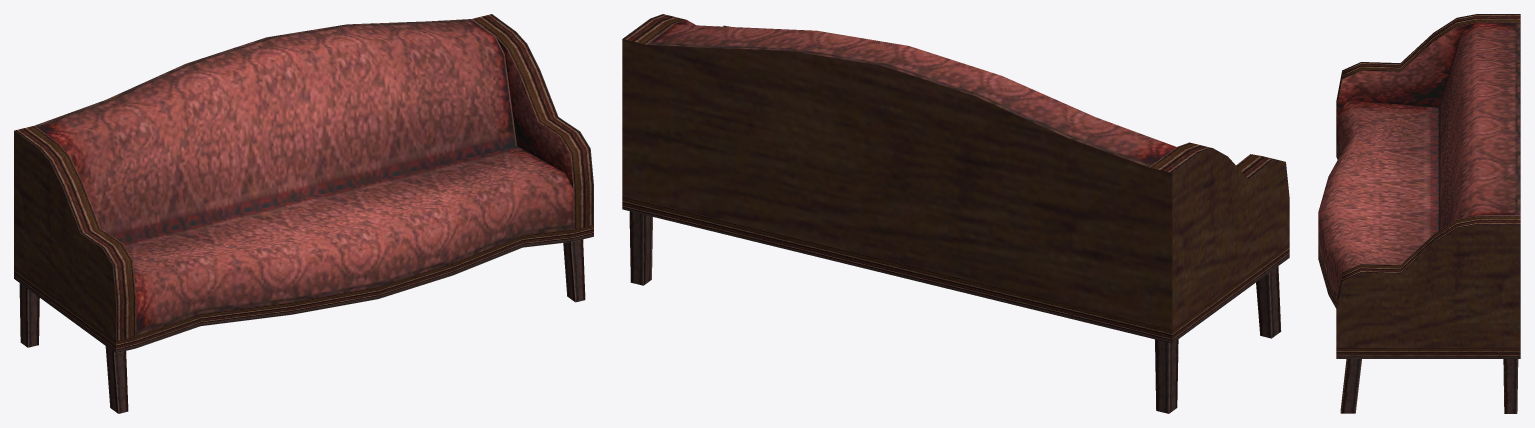
File: couch_antq_red.fbx
The picture shows the model from 3 angles, left to right: view 1: azimuth 30°, elevation 25°; view 2: azimuth 150°, elevation 25°; view 3: azimuth 270°, elevation 25°; orthographic projection. The views are drawn at different scales.
Visible parts, largest first — view 1: mesh_0; view 2: mesh_0; view 3: mesh_0.
Boxes of the visible parts, <box> form: mesh_0: <box>14,14,593,413</box>; mesh_0: <box>622,14,1289,413</box>; mesh_0: <box>1318,14,1520,413</box>.
Size of the model in its own units: 200 by 97.32 by 81.06.
Materials: 1 (1 with a texture image).
